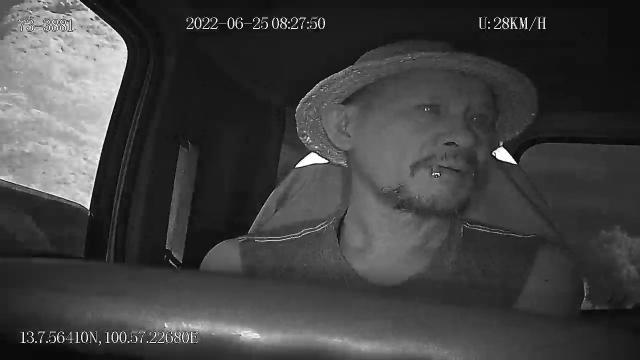SafeDriving: (408, 94, 446, 121)
Smoking: (431, 162, 442, 180)
